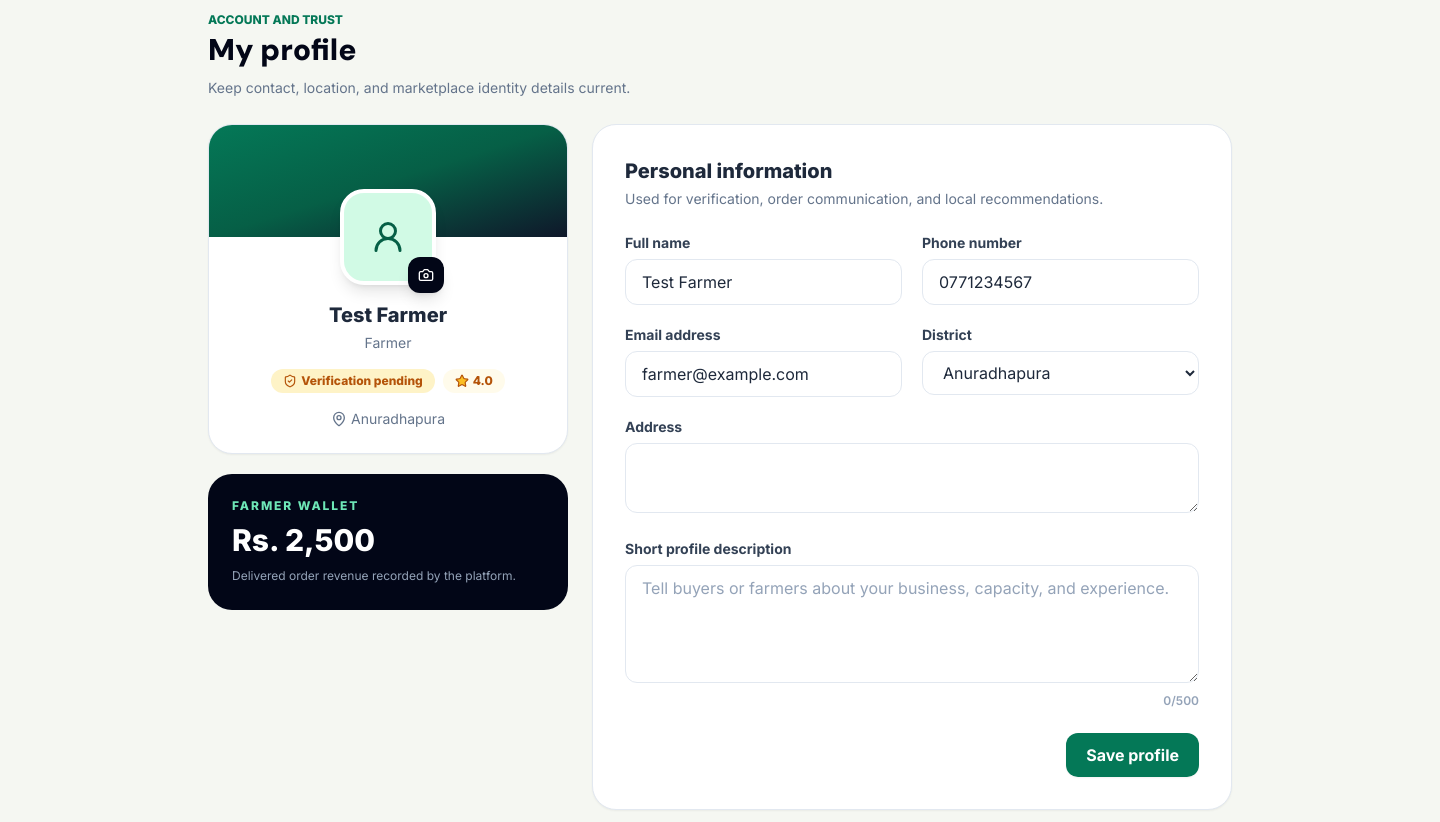
it: ProfilePage › shows a no-numbers error as numbers are typed in the full name field
Replace the text in the field labelled "Full name" with "Farmer 1" at (764, 282), box [625,259,902,305]
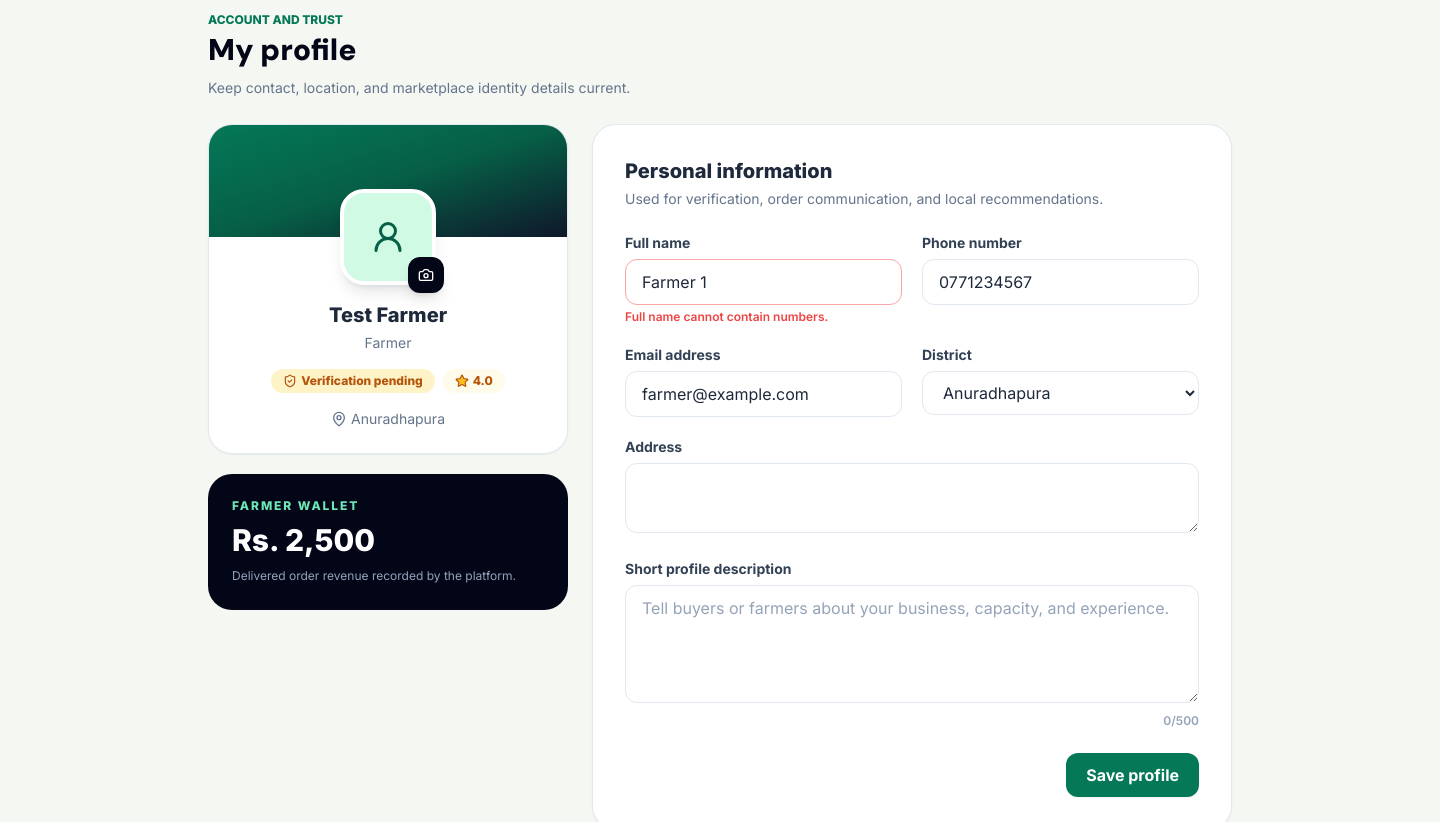
Now the text "Full name cannot contain numbers." is shown, box [625,309,828,324]
